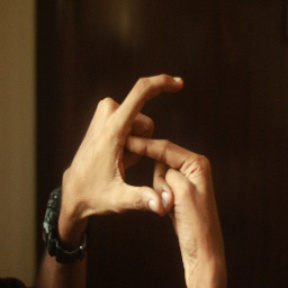E: (99, 62, 214, 214)
